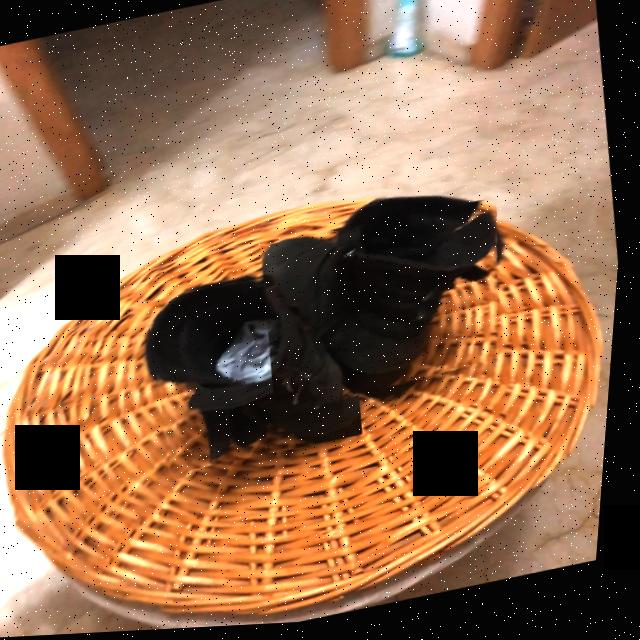shoe: (267, 218, 503, 399), (158, 283, 369, 460)
